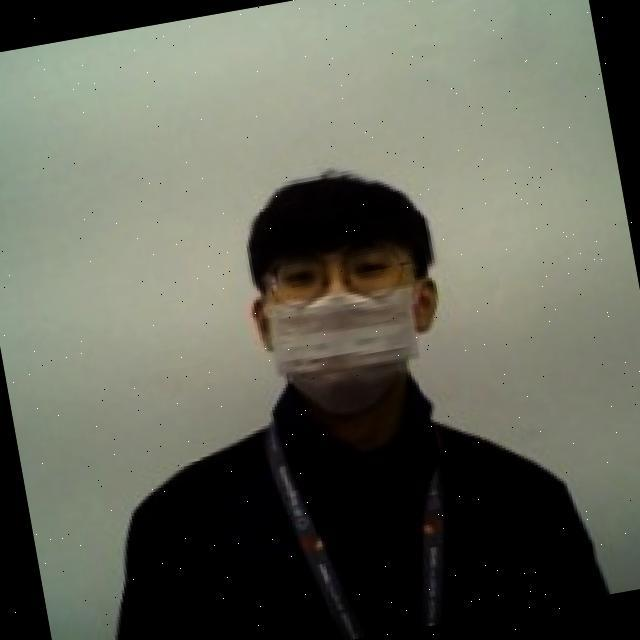mask: (245, 262, 462, 436)
no_gloves: (232, 146, 441, 288)
